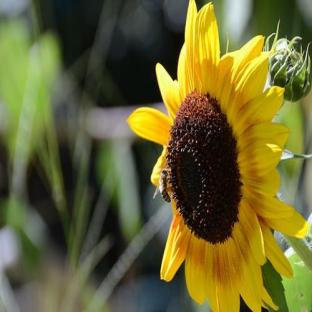sunflower: (127, 0, 312, 312)
